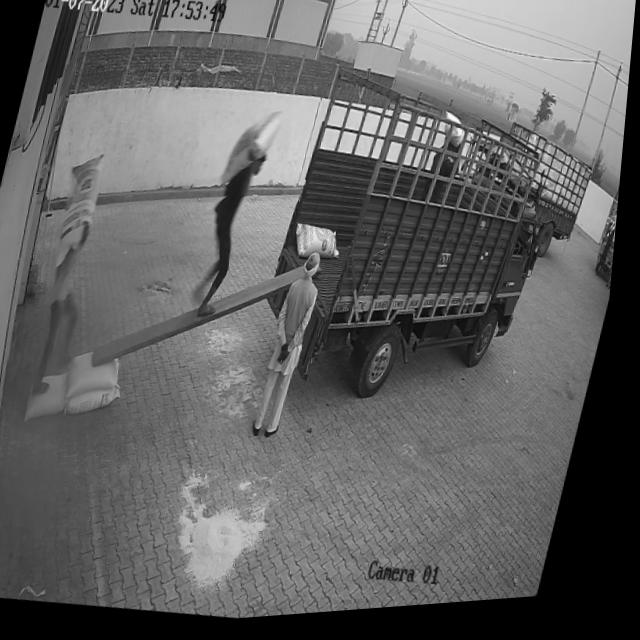sack: (55, 153, 113, 271), (222, 107, 285, 197), (67, 348, 130, 405), (293, 222, 351, 270), (30, 371, 79, 427), (72, 382, 129, 421)
